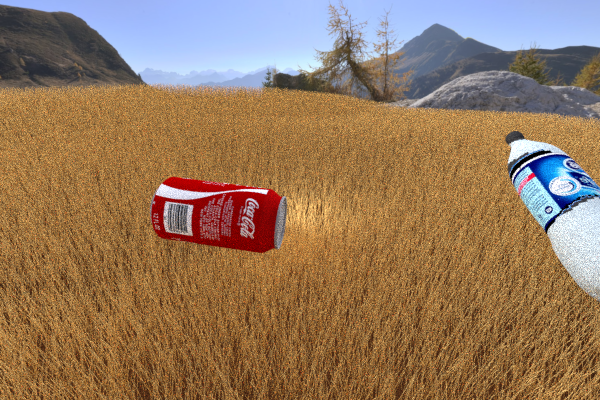Plastic Bottle: (505, 130, 600, 310), (150, 176, 287, 253)
